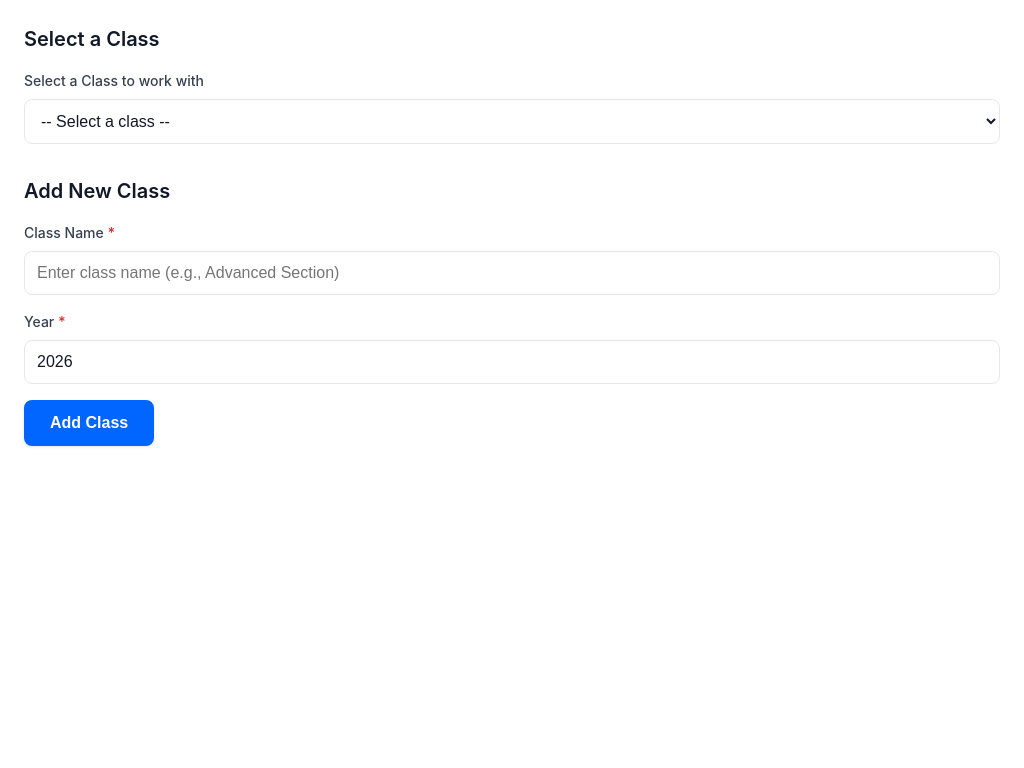
Scenario: ClassManagementModal › US-CLASS-TABS-001: Tab Group Display › should display tab group when a class is selected (AC1)
Note: Select a class from dropdown
Step 1. Select "Advanced Section (2024)" in the dropdown labelled "Select a Class to work with" → (512, 122), box x1=24 y1=99 x2=1000 y2=144
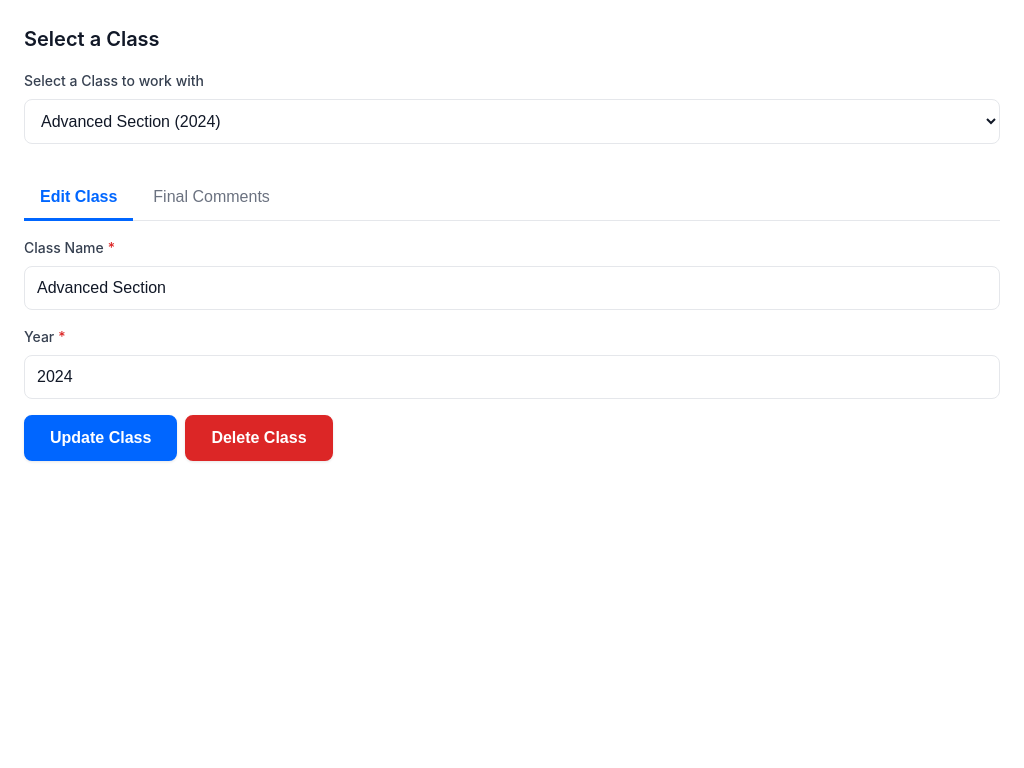
Check: the element showing "Edit Class Final Comments" is shown, box x1=24 y1=176 x2=1000 y2=221
Check: the tab "Edit Class" is shown, box x1=24 y1=176 x2=133 y2=221
Check: the tab "Final Comments" is shown, box x1=133 y1=176 x2=290 y2=221
